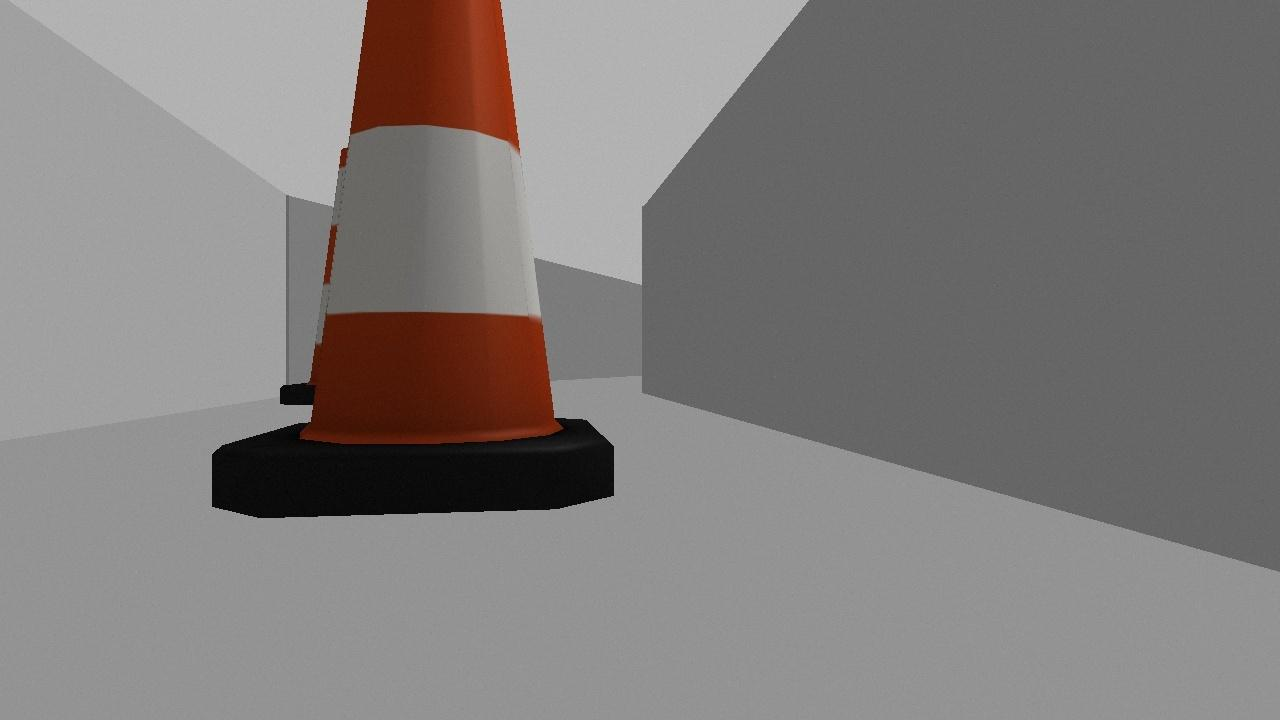cone_barrel: (183, 0, 627, 537)
